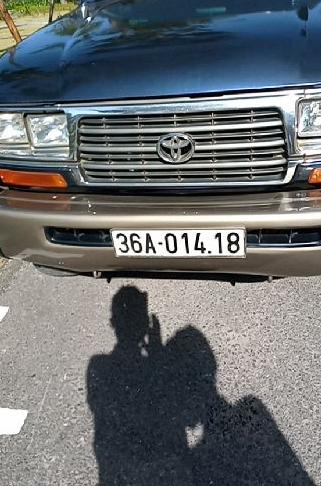Plate-iWeP: (111, 225, 248, 261)
